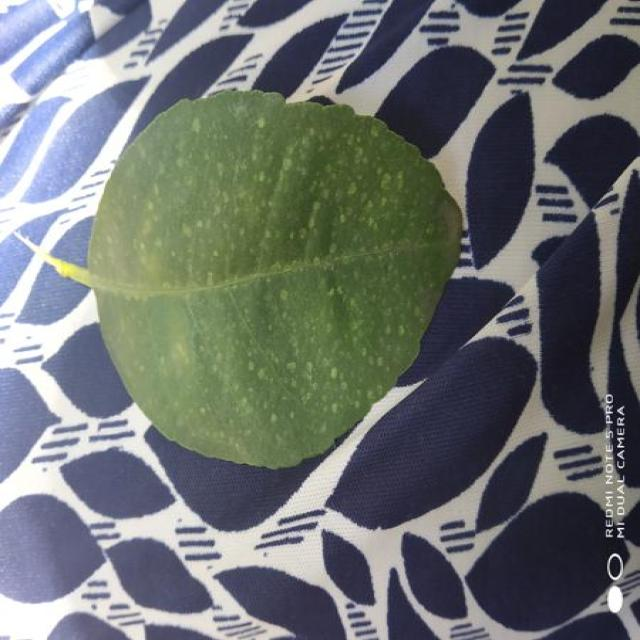Citrus bacterial spot: (88, 91, 460, 468)
